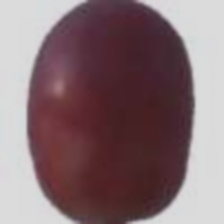grapes: (46, 24, 212, 187)
